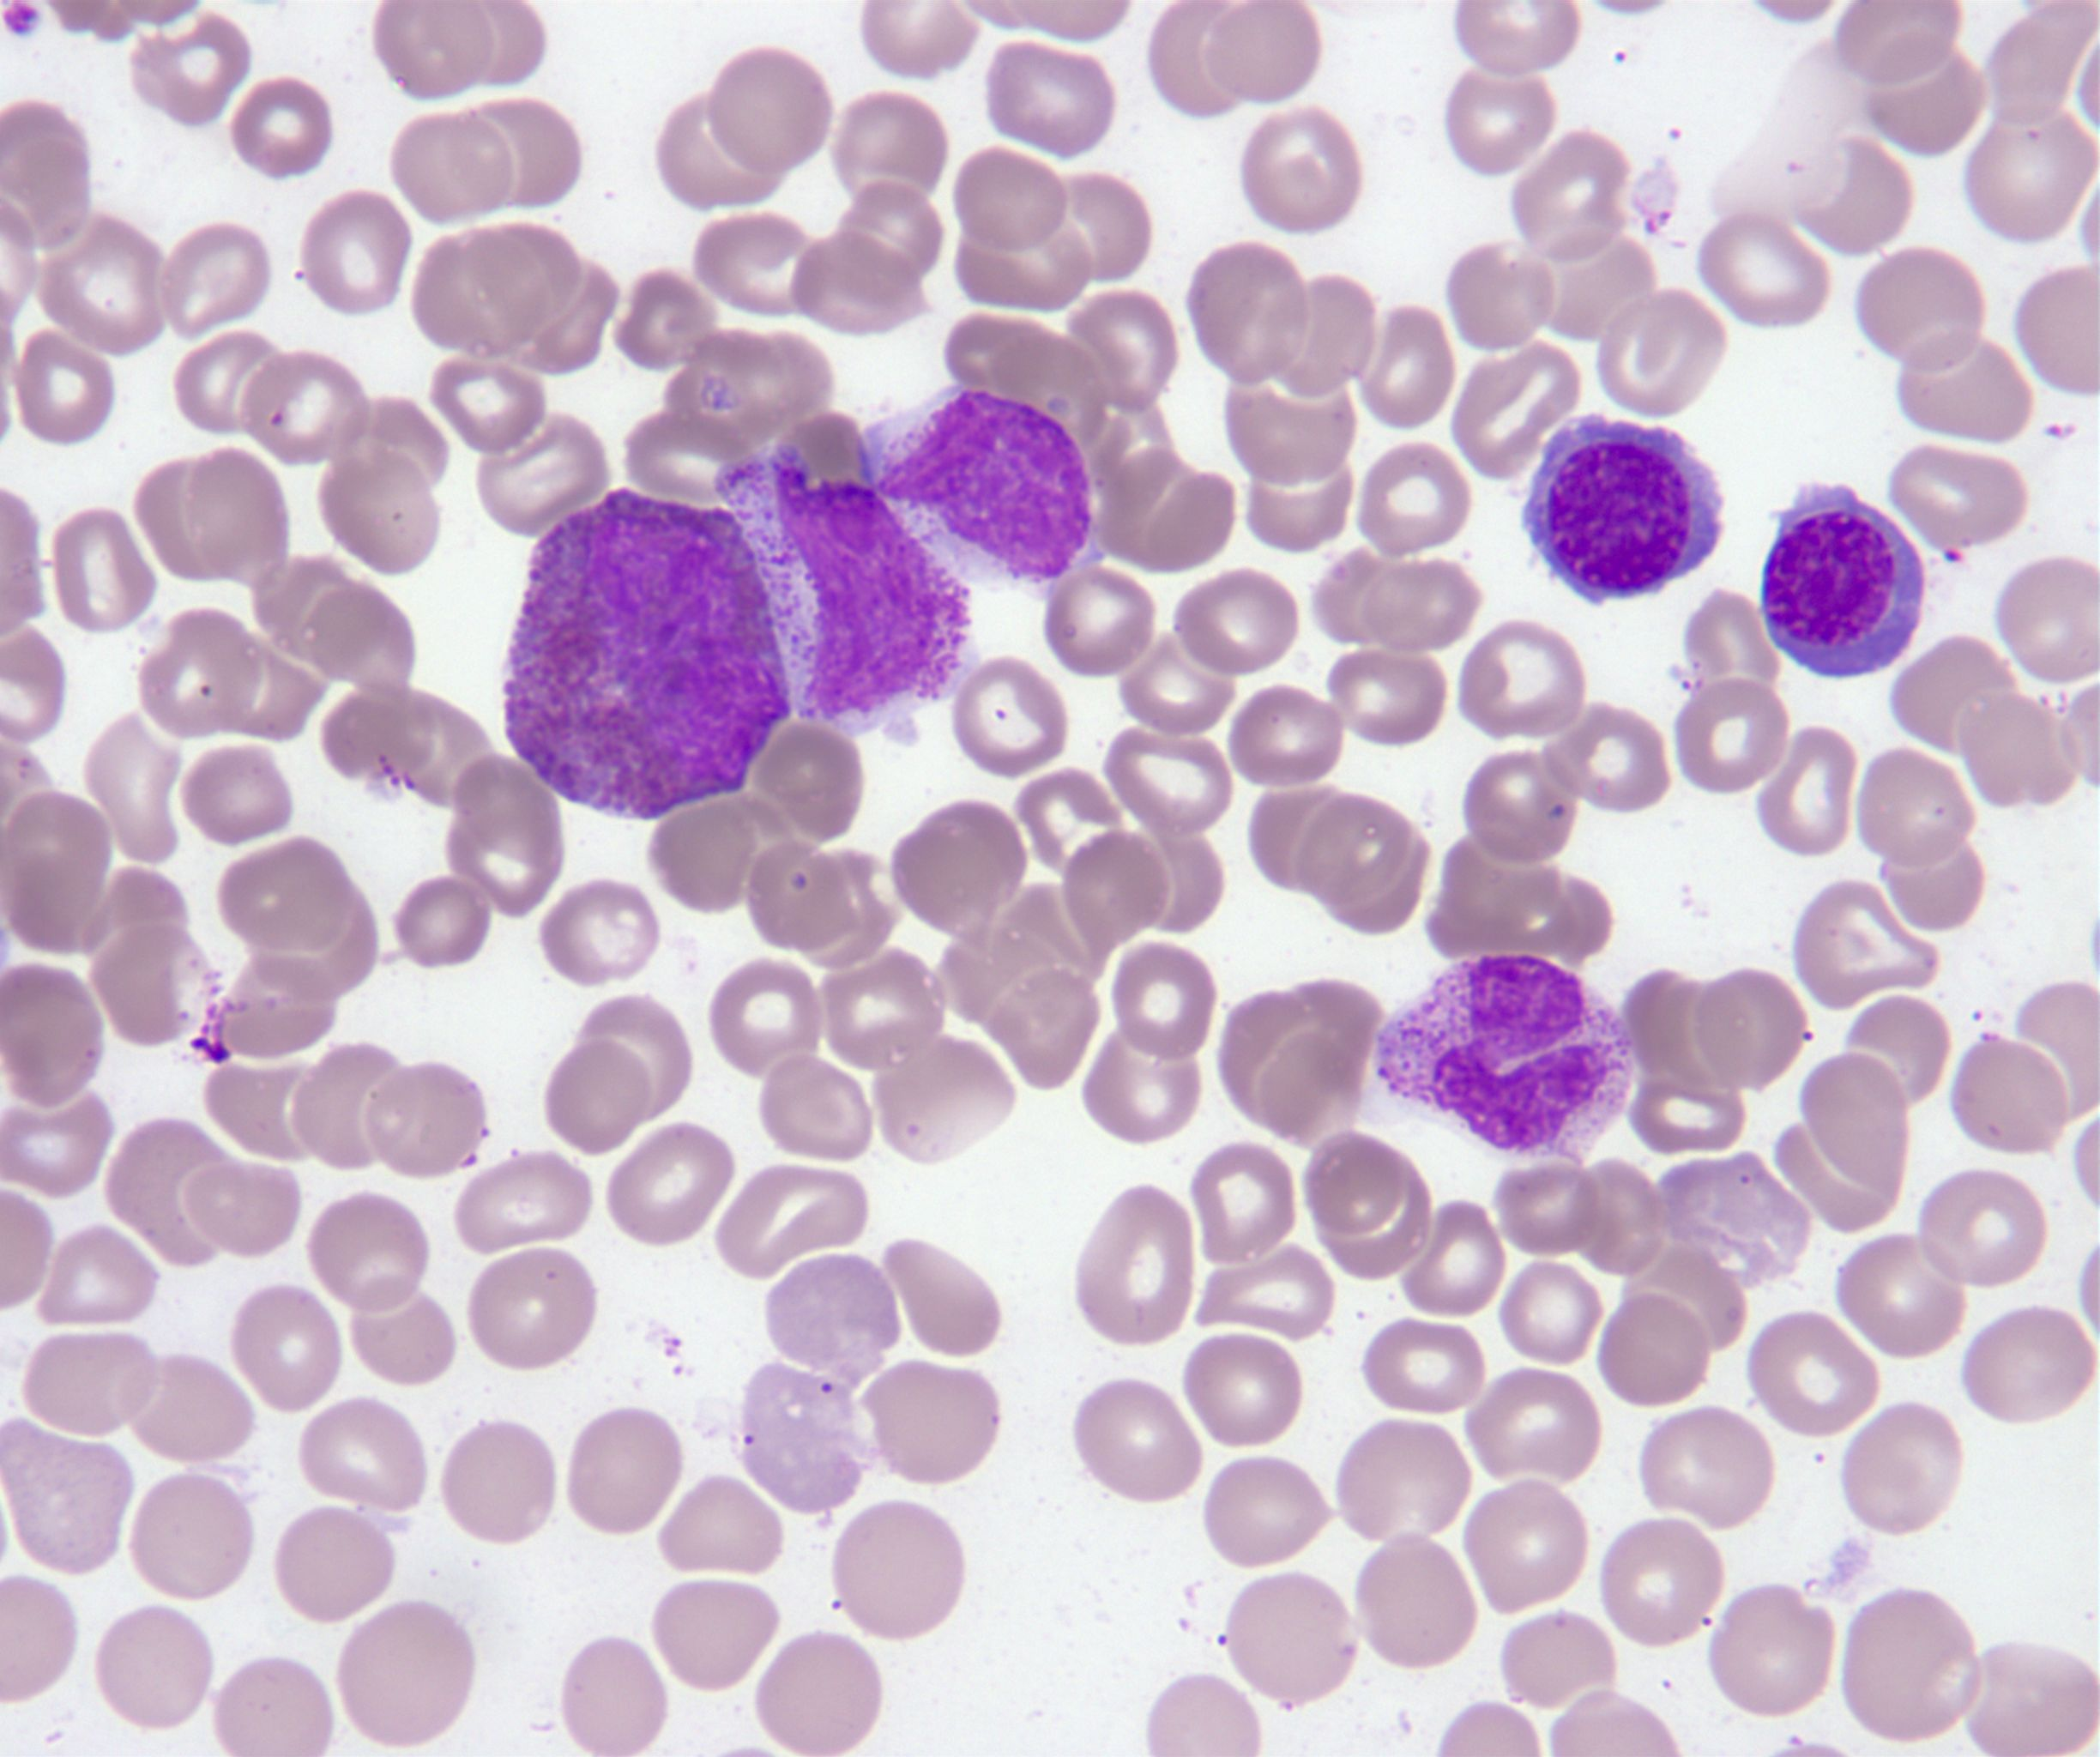23: (1521, 414, 1722, 605), (1763, 480, 1926, 677)
3: (713, 447, 972, 736), (856, 387, 1104, 597)
4: (1374, 956, 1633, 1166)
E2: (506, 489, 790, 817)
